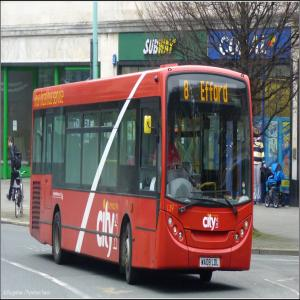Vehicle-registration-plate: (200, 257, 222, 269)
